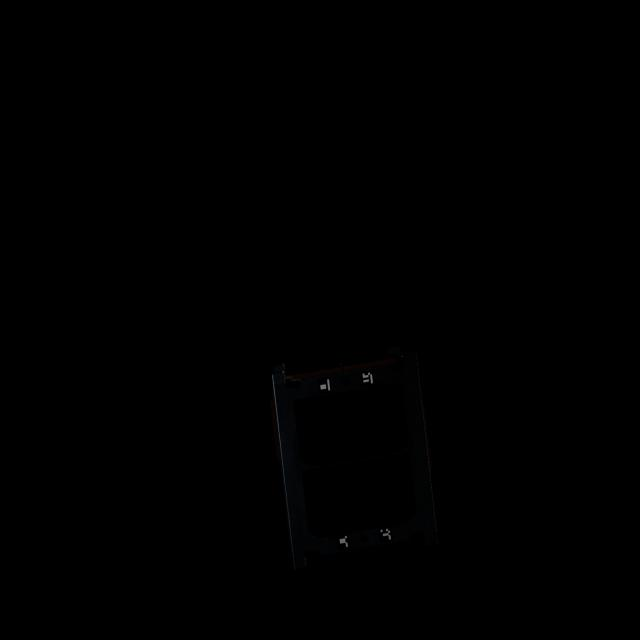satellite: (271, 353, 443, 581)
